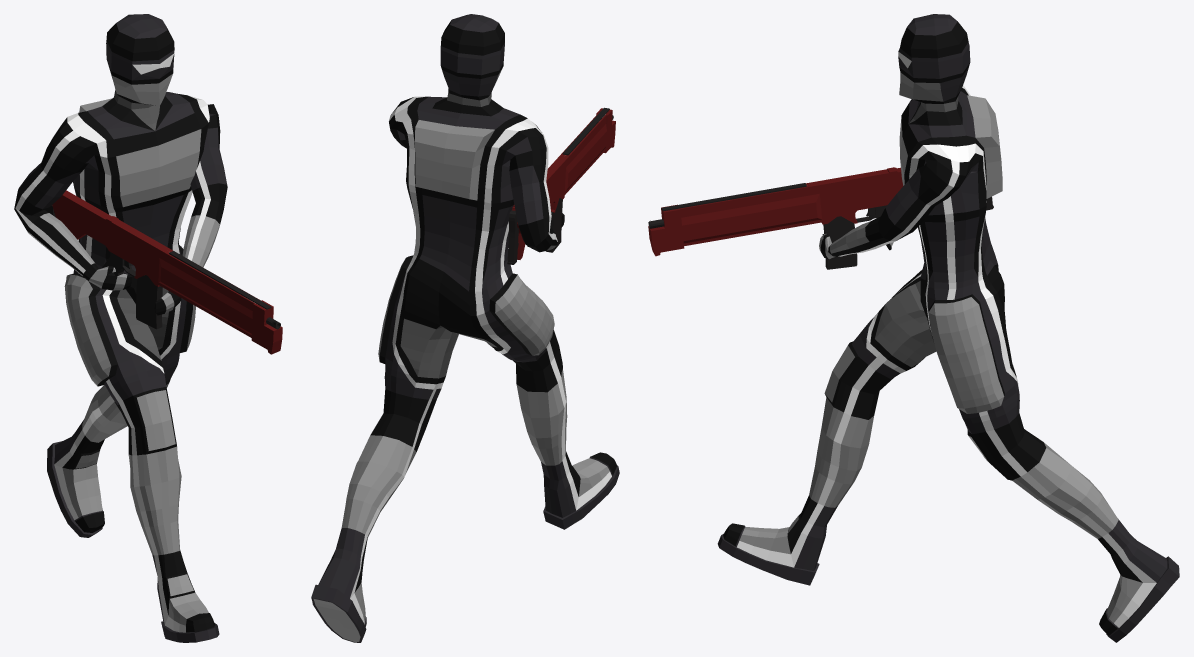
The model's file is MCR3.obj.
The picture shows the model from 3 angles, left to right: view 1: azimuth 30°, elevation 25°; view 2: azimuth 150°, elevation 25°; view 3: azimuth 270°, elevation 25°; orthographic projection. The views are drawn at different scales.
Visible parts, largest first — view 1: metarig_object_metarig_mesh, Cube.001; view 2: metarig_object_metarig_mesh, Cube.001; view 3: metarig_object_metarig_mesh, Cube.001.
Boxes of the visible parts, bbox=[...] form: metarig_object_metarig_mesh: bbox=[14, 14, 227, 642]; Cube.001: bbox=[44, 190, 282, 354]; metarig_object_metarig_mesh: bbox=[311, 14, 619, 642]; Cube.001: bbox=[507, 107, 615, 264]; metarig_object_metarig_mesh: bbox=[717, 14, 1179, 642]; Cube.001: bbox=[648, 167, 993, 269].
Bounding box in the file's own units: 0.5375 × 1.68 × 1.34.
Materials: 2 (2 with a texture image).
